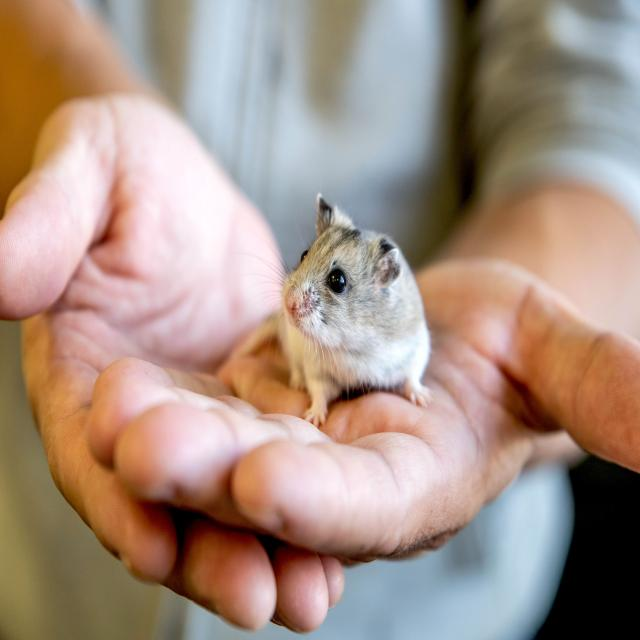hamster: (278, 195, 435, 416)
